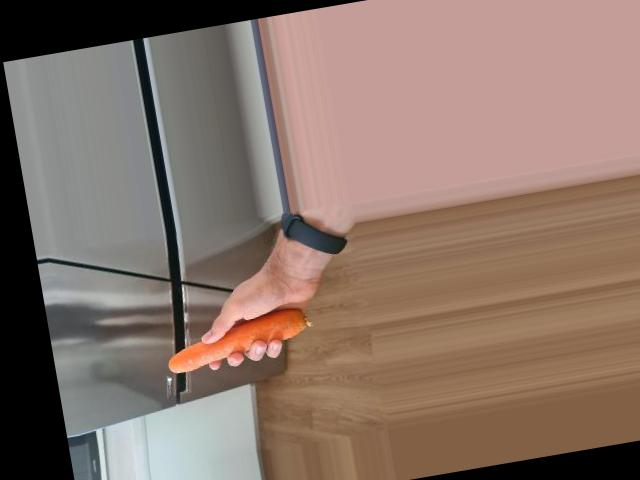carrot: (163, 303, 315, 377)
